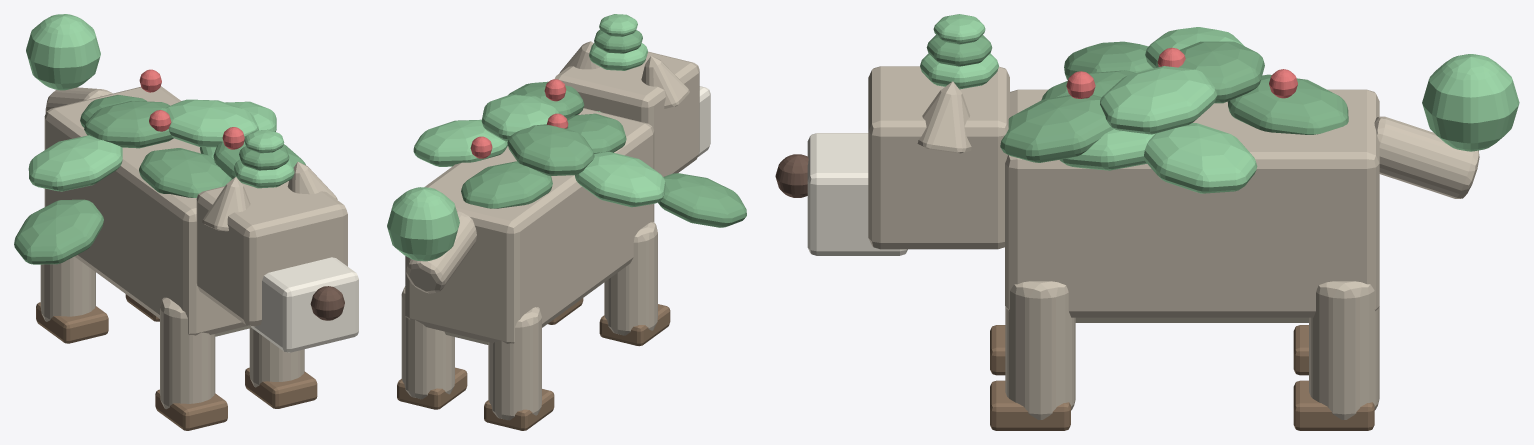
The model's file is hedgewight.glb.
3 renders of one model, left to right at view 1: azimuth 30°, elevation 25°; view 2: azimuth 150°, elevation 25°; view 3: azimuth 270°, elevation 25°, orthographic. The views are drawn at different scales.
Visible parts, largest first — view 1: Body, Head, Muzzle, Leg_FL, TailTip, Shingle5, Shingle4, Shingle9, Shingle2, Leg_BL, Shingle3, Leg_FR (+16 smaller); view 2: Body, Head, Leg_BL, TailTip, Leg_FL, Leg_BR, Shingle4, Shingle5, Shingle3, Shingle7, Shingle6, Shingle2 (+14 smaller); view 3: Body, Head, Leg_BR, Leg_FR, Muzzle, TailTip, Shingle2, Shingle6, Shingle1, Tail, Shingle7, Shingle3 (+14 smaller).
Boxes of the visible parts, box(x1,y1,x2,y2) form: Body: box(44, 86, 247, 335); Head: box(196, 181, 347, 326); Muzzle: box(251, 257, 358, 352); Leg_FL: box(160, 297, 215, 409); TailTip: box(26, 14, 100, 90); Shingle5: box(14, 199, 103, 264); Shingle4: box(28, 135, 122, 191); Shingle9: box(139, 148, 231, 197); Shingle2: box(166, 99, 258, 147); Leg_BL: box(40, 256, 95, 321); Shingle3: box(84, 101, 173, 148); Leg_FR: box(249, 328, 304, 387); Body: box(405, 108, 654, 343); Head: box(554, 51, 699, 176); Leg_BL: box(488, 307, 541, 420); TailTip: box(387, 187, 459, 261); Leg_FL: box(604, 222, 657, 335); Leg_BR: box(401, 286, 454, 399); Shingle4: box(574, 151, 665, 207); Shingle5: box(658, 173, 746, 227); Shingle3: box(507, 124, 594, 175); Shingle7: box(461, 161, 552, 208); Shingle6: box(413, 119, 507, 166); Shingle2: box(481, 94, 558, 141); Body: box(1005, 89, 1379, 317); Head: box(868, 66, 1009, 249); Leg_BR: box(1309, 281, 1379, 419); Leg_FR: box(1005, 281, 1075, 419); Muzzle: box(807, 133, 907, 255); TailTip: box(1422, 54, 1519, 151); Shingle2: box(1100, 66, 1217, 134); Shingle6: box(1144, 123, 1257, 193); Shingle1: box(1000, 94, 1113, 162); Tail: box(1374, 116, 1479, 198); Shingle7: box(1227, 74, 1348, 134); Shingle3: box(1178, 41, 1264, 103).
Size of the model in its own units: 0.8491 by 0.813 by 1.47.
